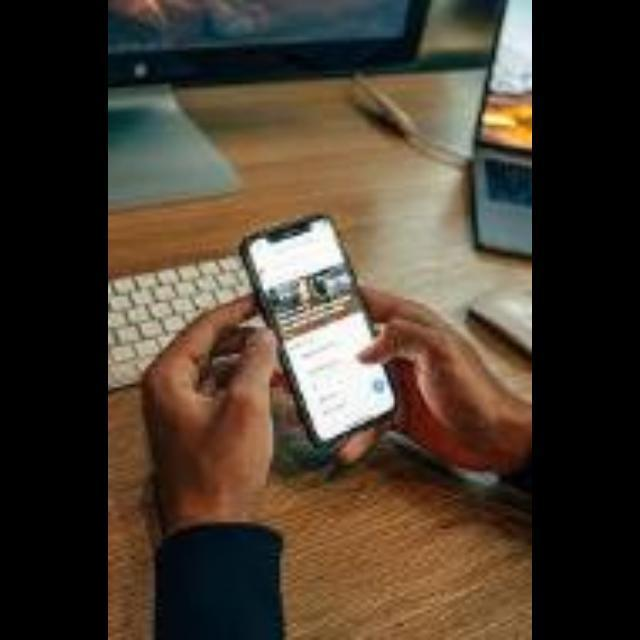PhoneUse: (242, 216, 412, 438)
